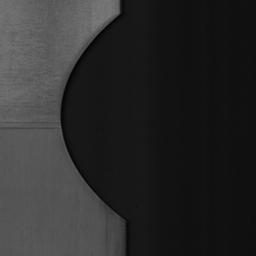Crescent gap: (60, 14, 123, 222)
